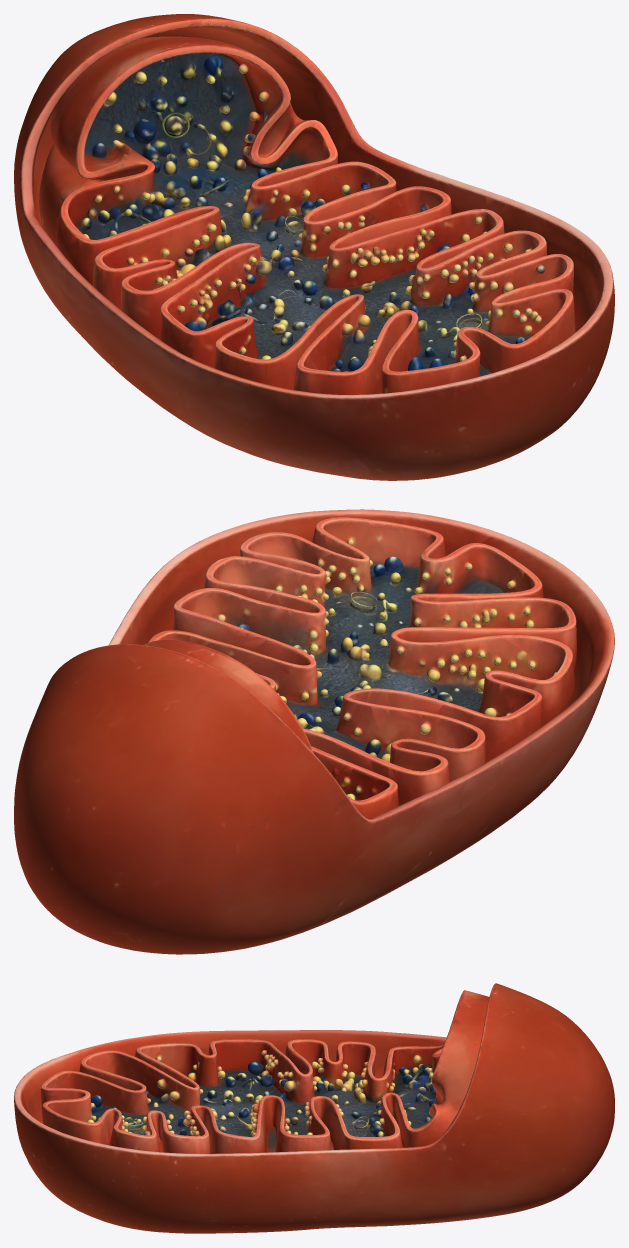
The model's file is mitochondrion.glb.
3 views of the same model, one above another, from view 1: azimuth 30°, elevation 25°; view 2: azimuth 150°, elevation 25°; view 3: azimuth 270°, elevation 25° (orthographic). The views are drawn at different scales.
Visible parts, largest first — view 1: model; view 2: model; view 3: model.
Part boxes in pixels (bbox=[...]): model: bbox=[14, 14, 614, 480]; model: bbox=[14, 509, 614, 954]; model: bbox=[14, 983, 614, 1233].
Size of the model in its own units: 1.12 by 0.7082 by 1.9.
Materials: 1 (1 with a texture image).
